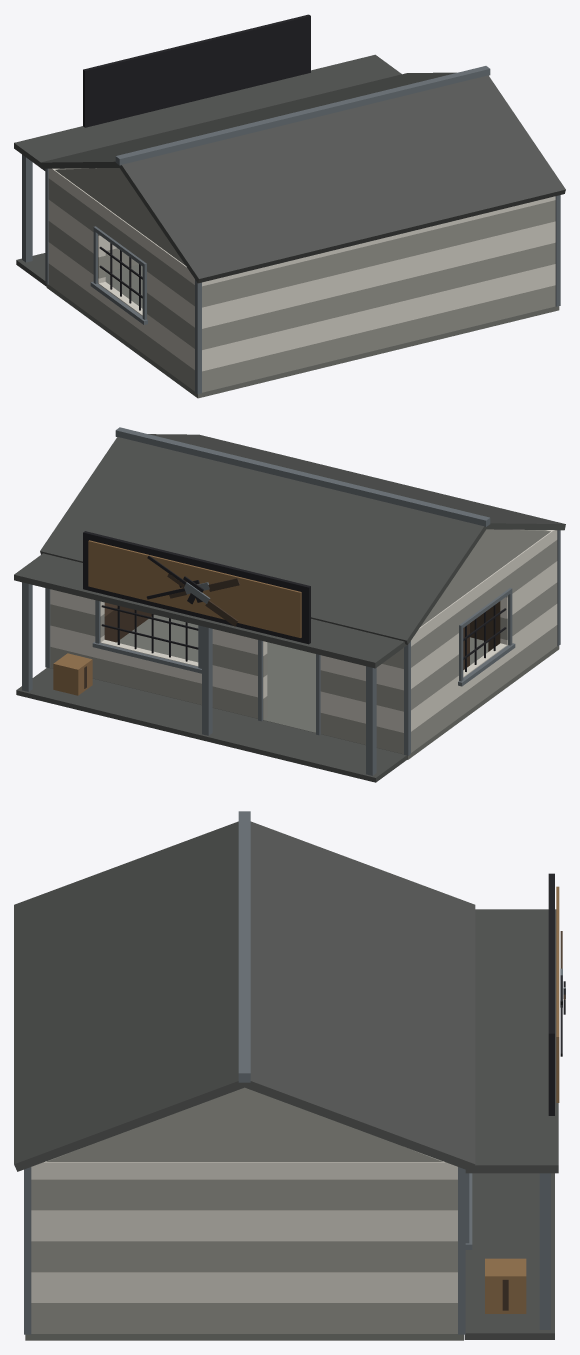
File: gun_shop.glb
3 views of the same model, one above another, from view 1: azimuth 30°, elevation 25°; view 2: azimuth 150°, elevation 25°; view 3: azimuth 270°, elevation 25° (orthographic). The views are drawn at different scales.
Visible parts, largest first — view 1: gun_shop; view 2: gun_shop; view 3: gun_shop.
Part boxes in pixels (x1,y1,x2,y2): gun_shop: [14, 14, 565, 398]; gun_shop: [14, 427, 565, 782]; gun_shop: [14, 811, 565, 1340].
Size of what is drawn, in the model's own units: 8.21 by 3.95 by 7.3.
1 material, 1 textured.
